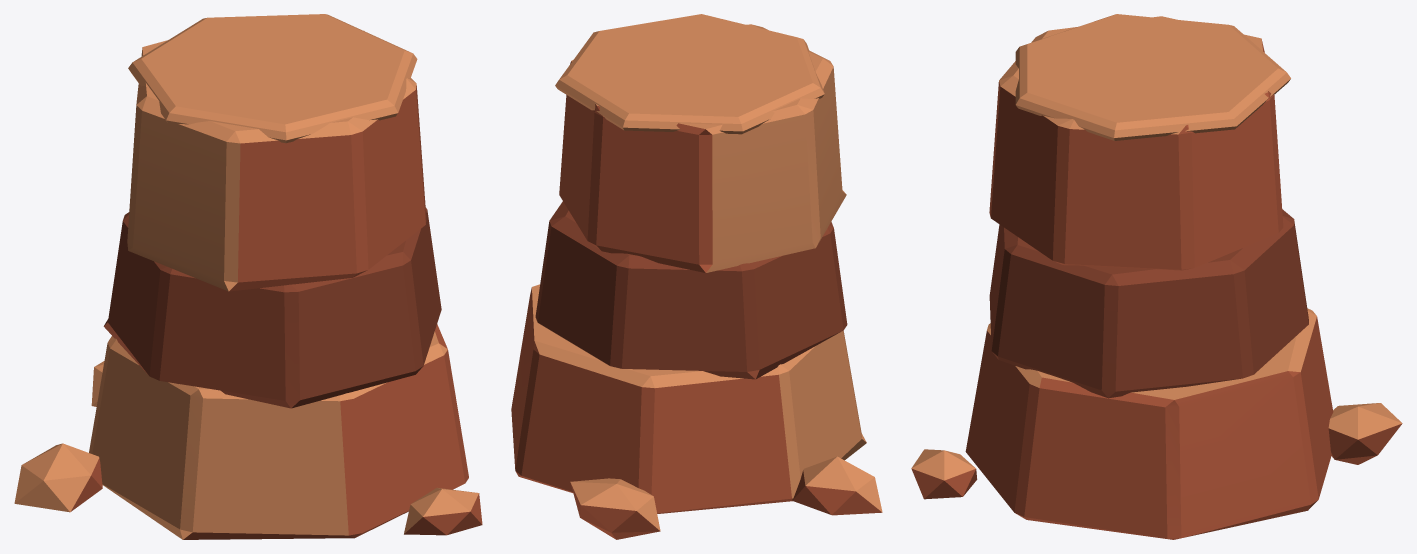
The model's file is Mesa_A.fbx.
3 views of the same model, side by side, from view 1: azimuth 30°, elevation 25°; view 2: azimuth 150°, elevation 25°; view 3: azimuth 270°, elevation 25° (orthographic). The views are drawn at different scales.
Visible parts, largest first — view 1: Mesa_A; view 2: Mesa_A; view 3: Mesa_A.
Boxes of the visible parts, x1,y1,x2,y2 form: Mesa_A: [14, 14, 482, 539]; Mesa_A: [511, 14, 882, 539]; Mesa_A: [911, 14, 1402, 539].
Bounding box in the file's own units: 3.55 × 3.49 × 3.79.
